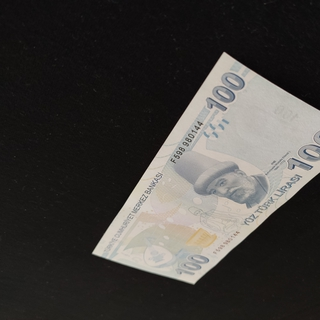100TLBack: (90, 51, 320, 286)
